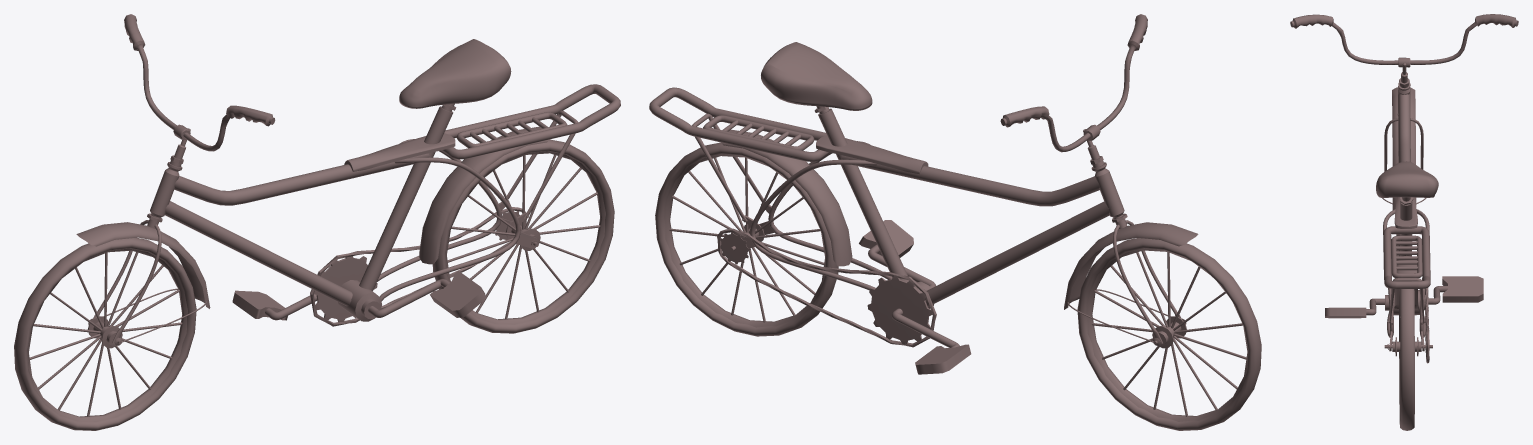
File: Bike_fbx.fbx
3 renders of one model, left to right at view 1: azimuth 30°, elevation 25°; view 2: azimuth 150°, elevation 25°; view 3: azimuth 270°, elevation 25°, orthographic. The views are drawn at different scales.
Parts seen in each view (by area): view 1: pCylinder91; view 2: pCylinder91; view 3: pCylinder91.
Part boxes in pixels (<box>): pCylinder91: <box>14,14,620,430</box>; pCylinder91: <box>649,14,1261,430</box>; pCylinder91: <box>1290,14,1518,430</box>.
Size of the model in its own units: 60.67 by 33.51 by 24.97.
